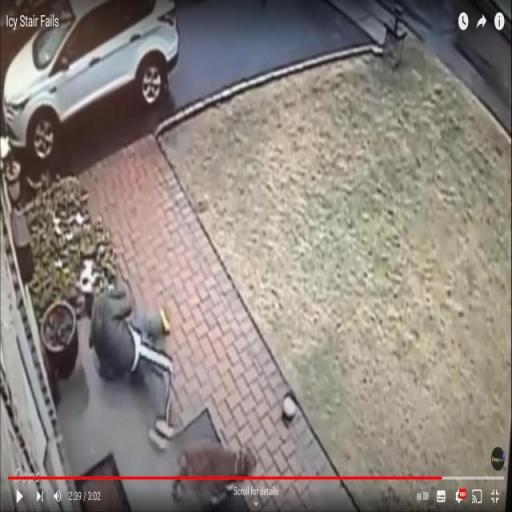Fall: (83, 278, 181, 450)
